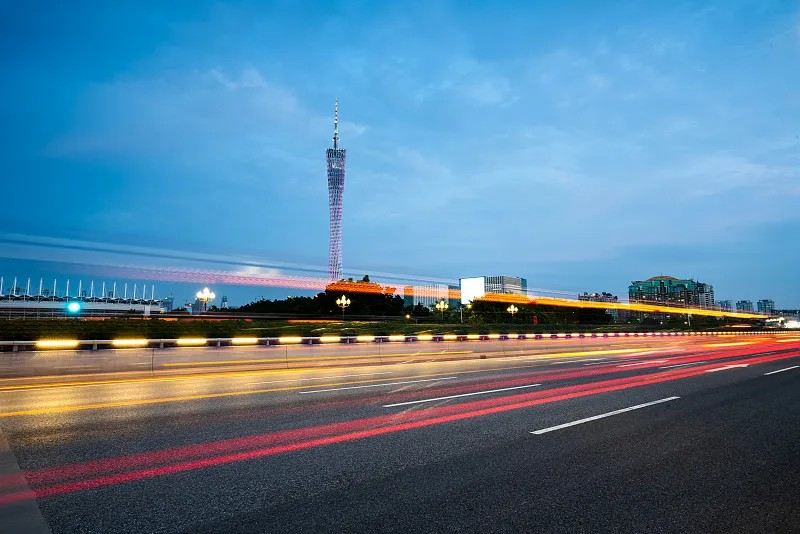Canton: (325, 98, 347, 283)
